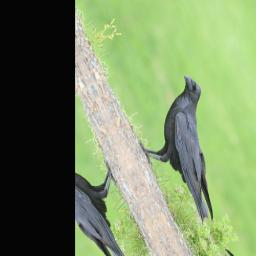Crow: (123, 69, 253, 239)
